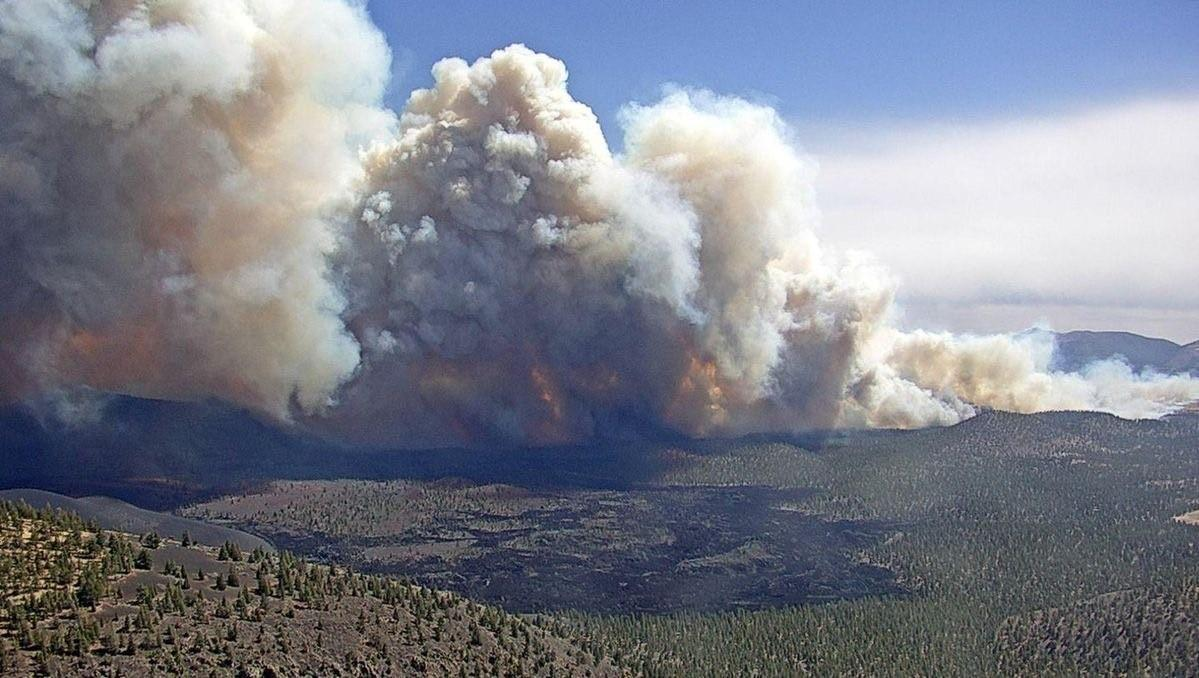smoke: (0, 0, 985, 483), (993, 309, 1199, 485)
